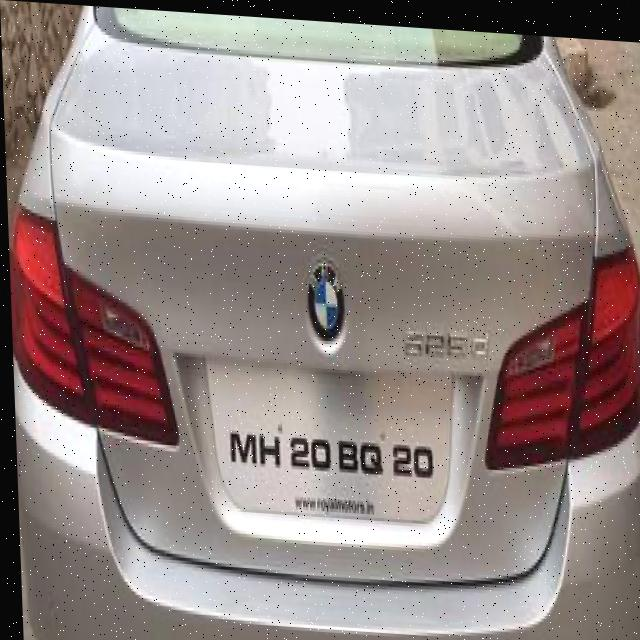plate: (203, 354, 456, 522)
